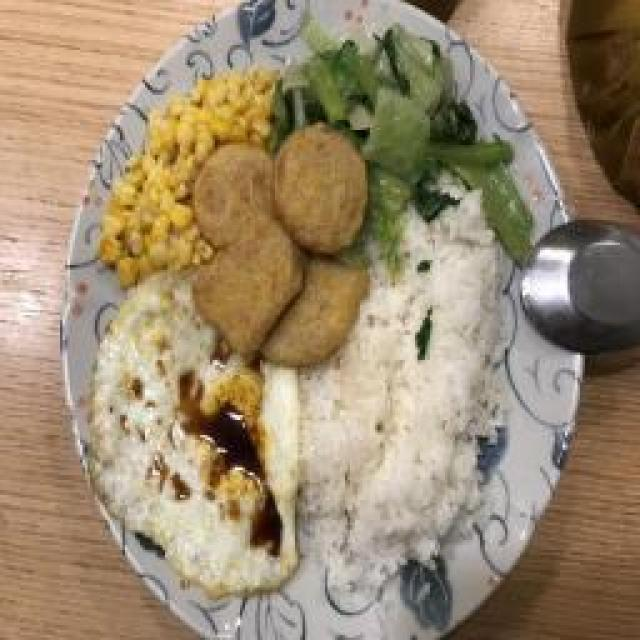chicken_nuggets: (192, 123, 370, 366)
fried_eggs: (88, 270, 301, 598)
rice: (300, 268, 503, 583)
